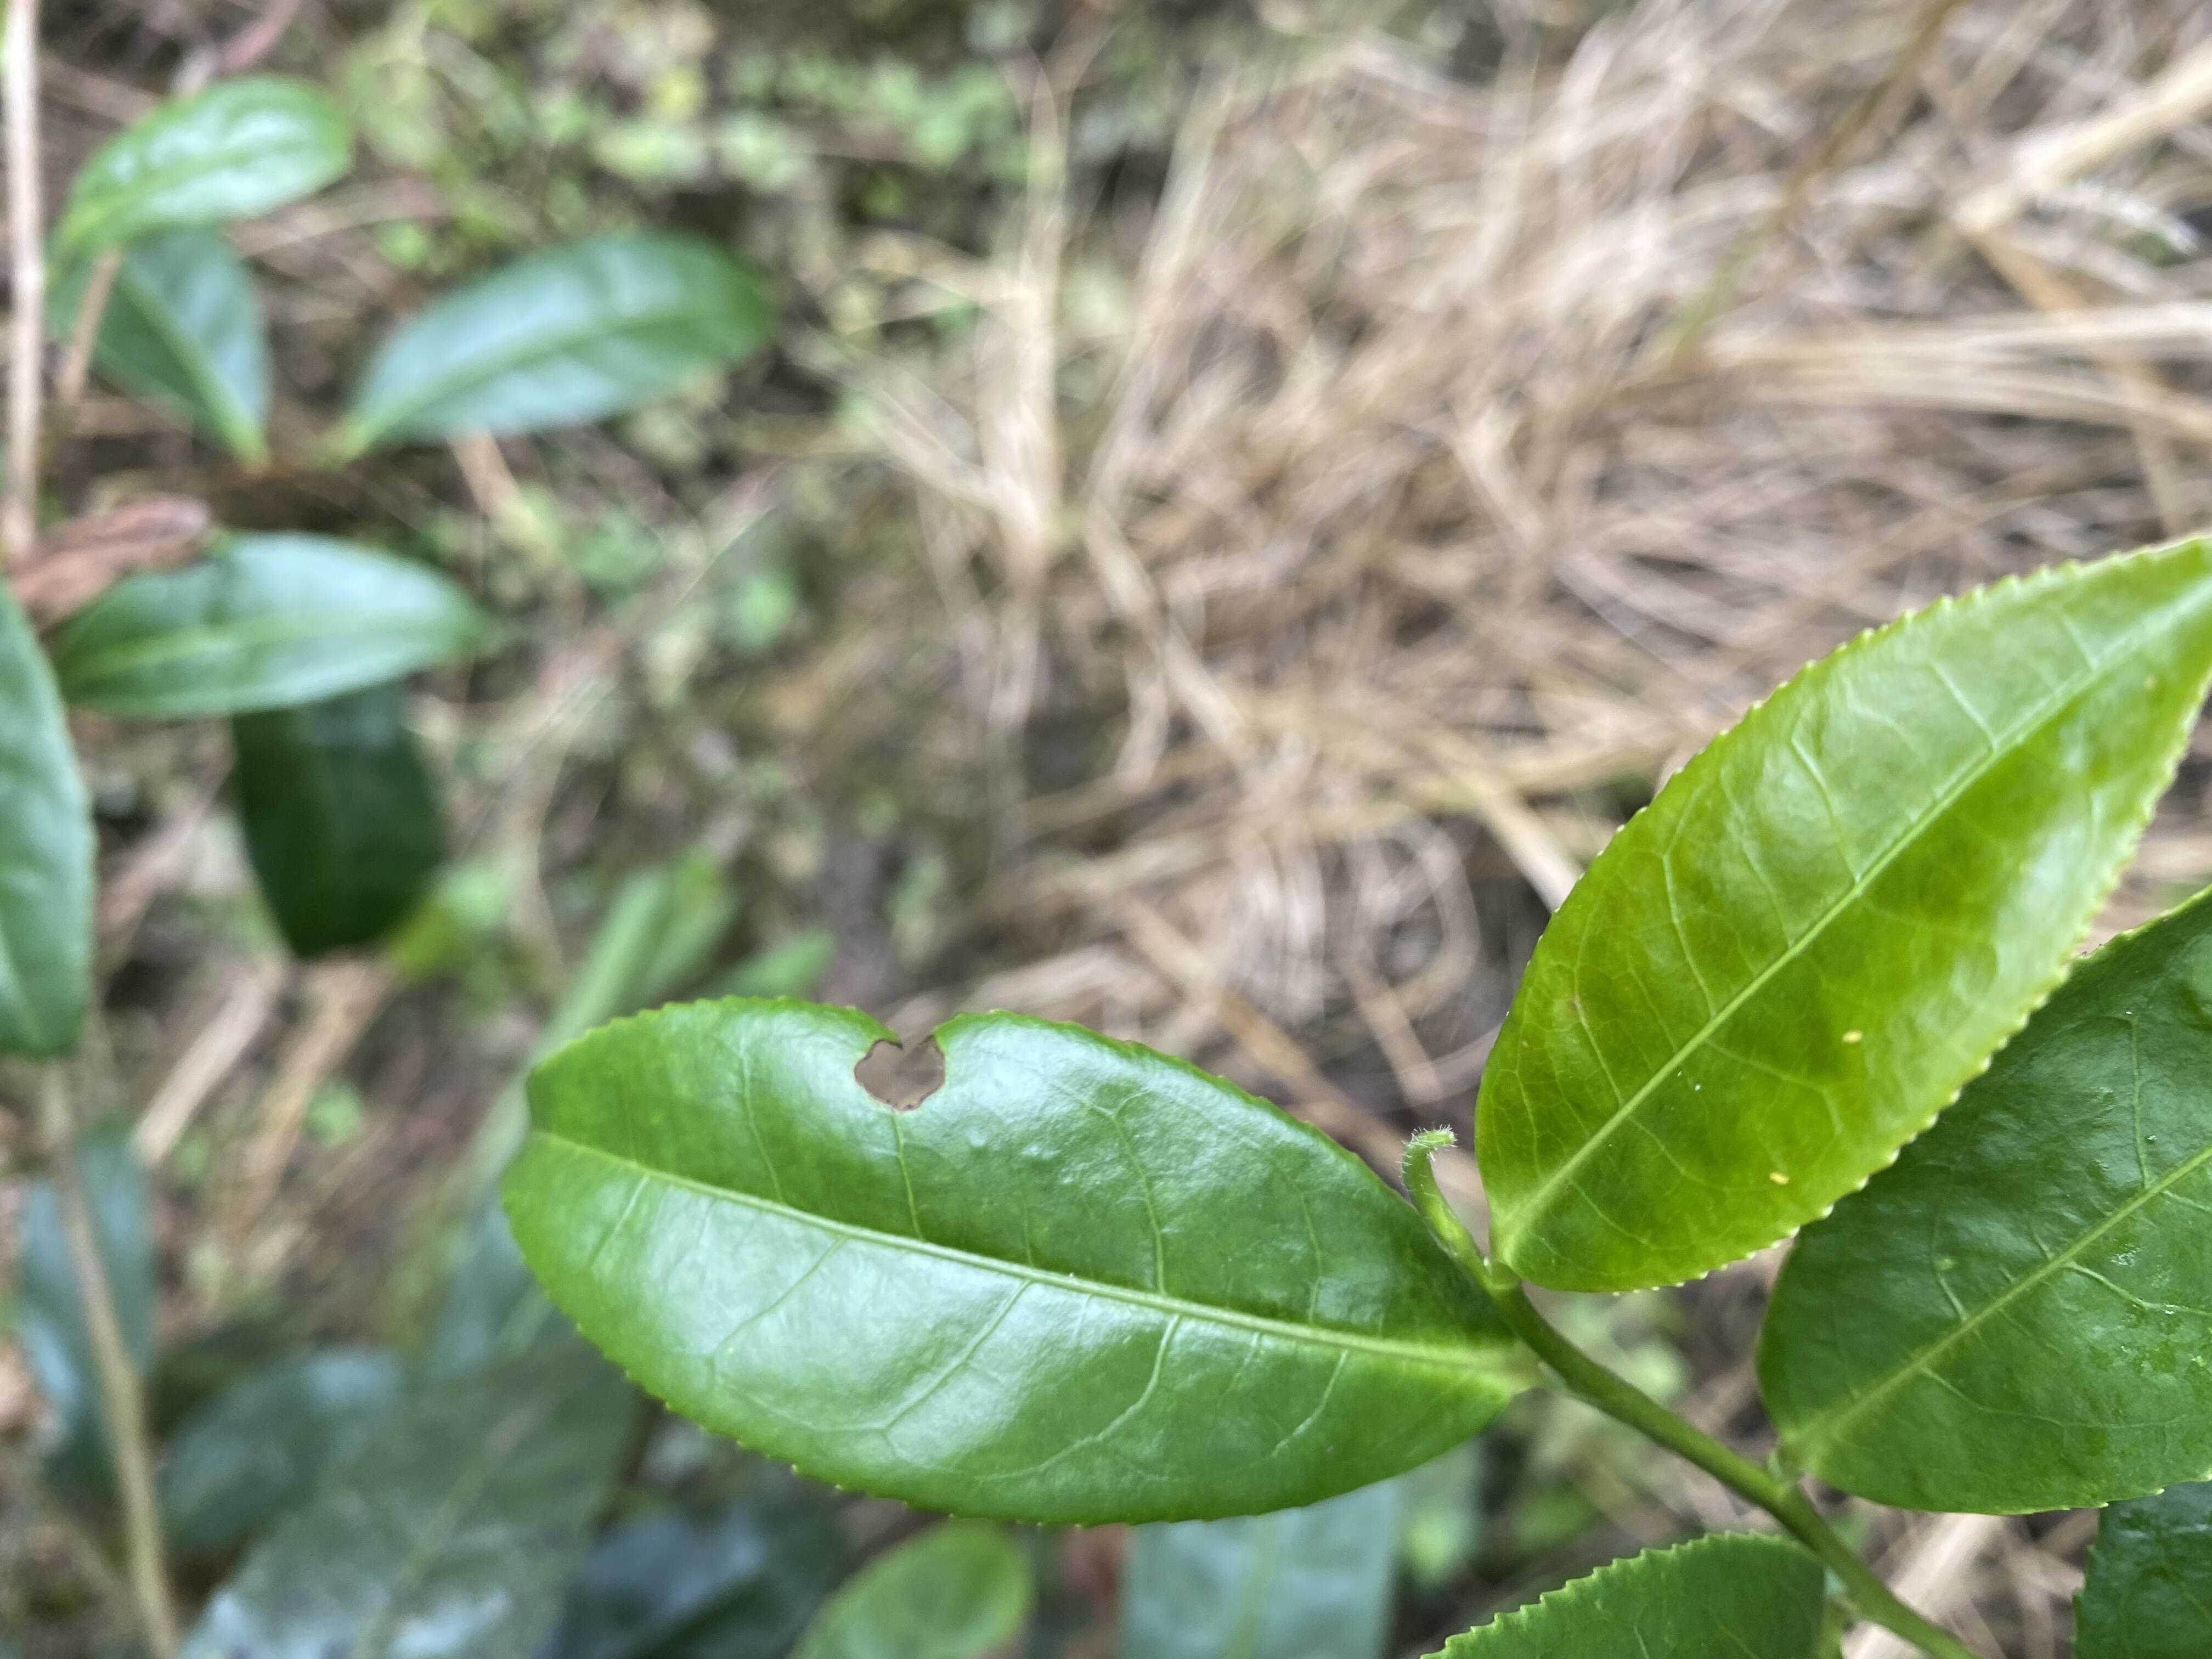chihuo_low: (496, 995, 1526, 1528)
healthy: (1470, 532, 2209, 1302), (1754, 887, 2210, 1518)
